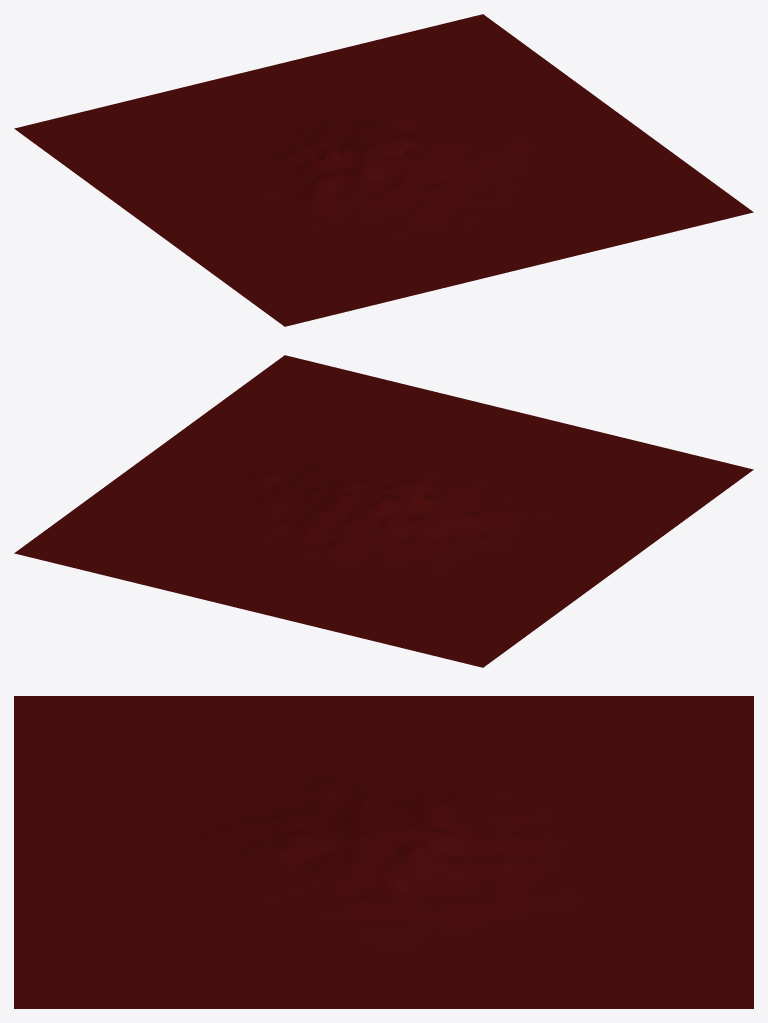
The model's file is space_terrain_3.fbx.
3 views of the same model, one above another, from view 1: azimuth 30°, elevation 25°; view 2: azimuth 150°, elevation 25°; view 3: azimuth 270°, elevation 25° (orthographic). The views are drawn at different scales.
Visible parts, largest first — view 1: Plane.001; view 2: Plane.001; view 3: Plane.001.
Boxes of the visible parts, box(x1,y1,x2,y2) form: Plane.001: box(14, 14, 753, 326); Plane.001: box(14, 355, 753, 667); Plane.001: box(14, 696, 753, 1008).
Size of the model in its own units: 925 by 52.89 by 925.
